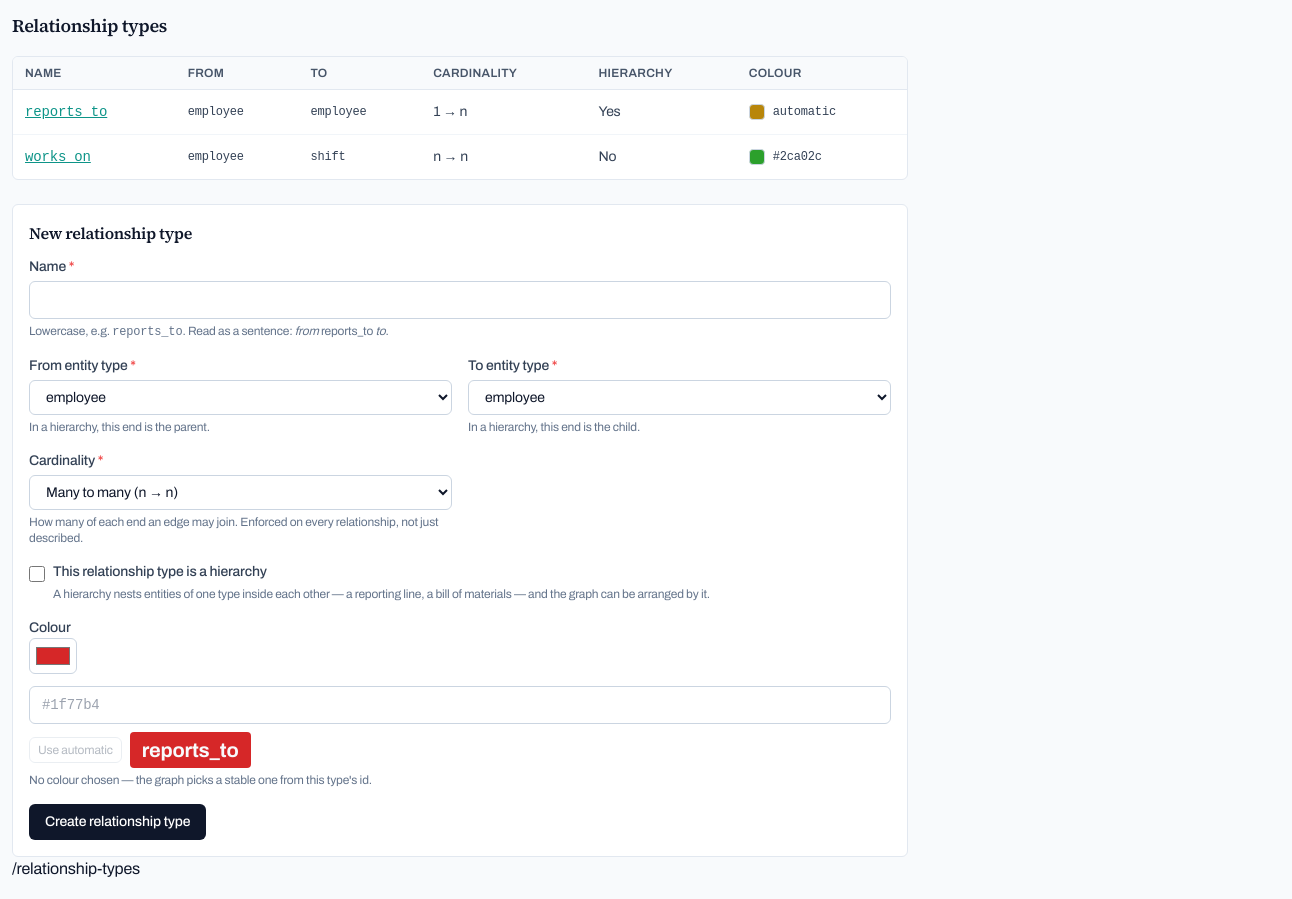
Test: RelationshipTypes list page › refuses to create a type whose colour box holds junk, and says so in the summary
Expected: the link "works_on" is shown, [25,149,91,165]
Type "supplies" into the field labelled "Name *" at (460,300), box [29,281,891,319]
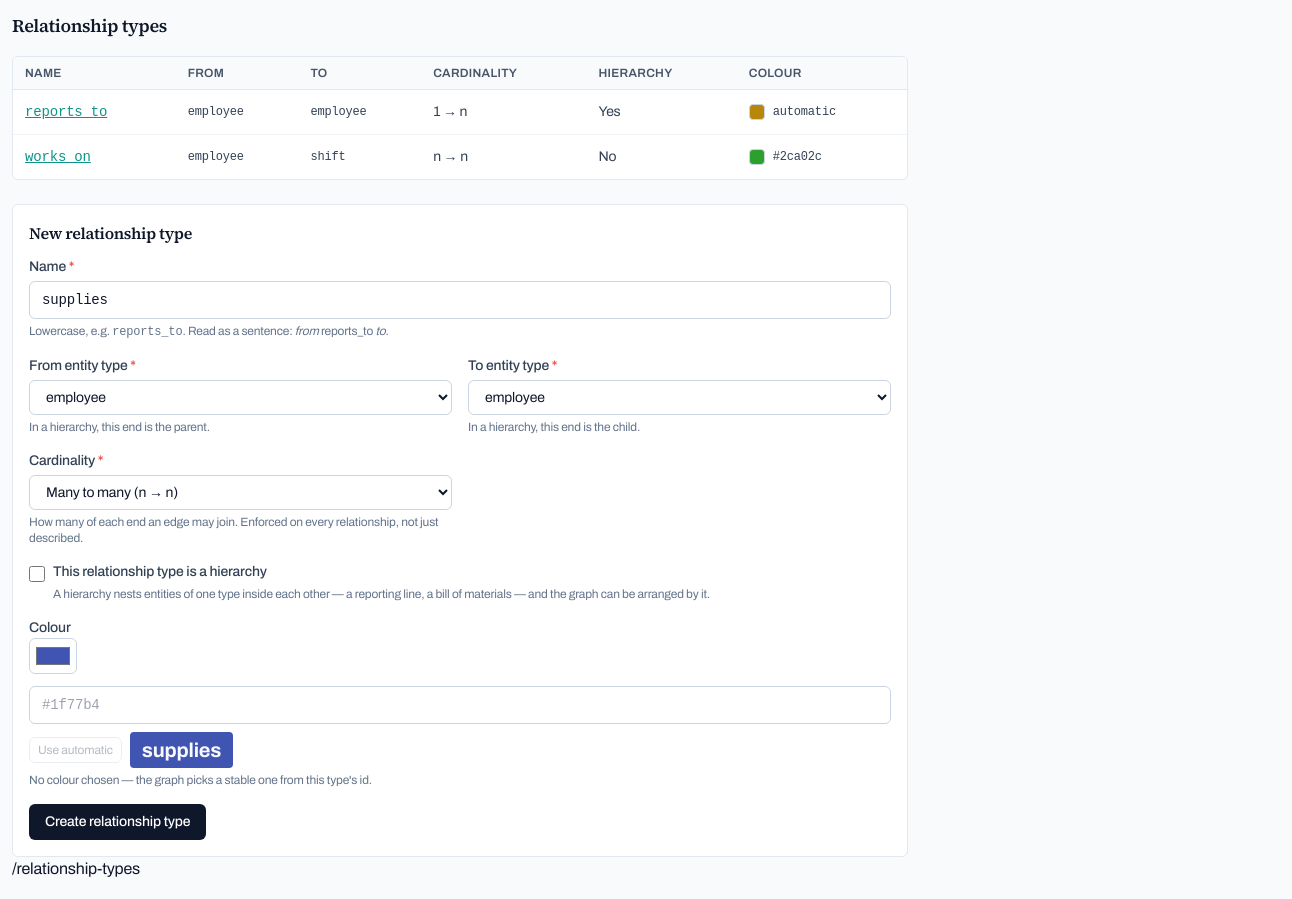
Type "banana" into the field with test id "colour-hex" at (460,705), box [29,686,891,724]
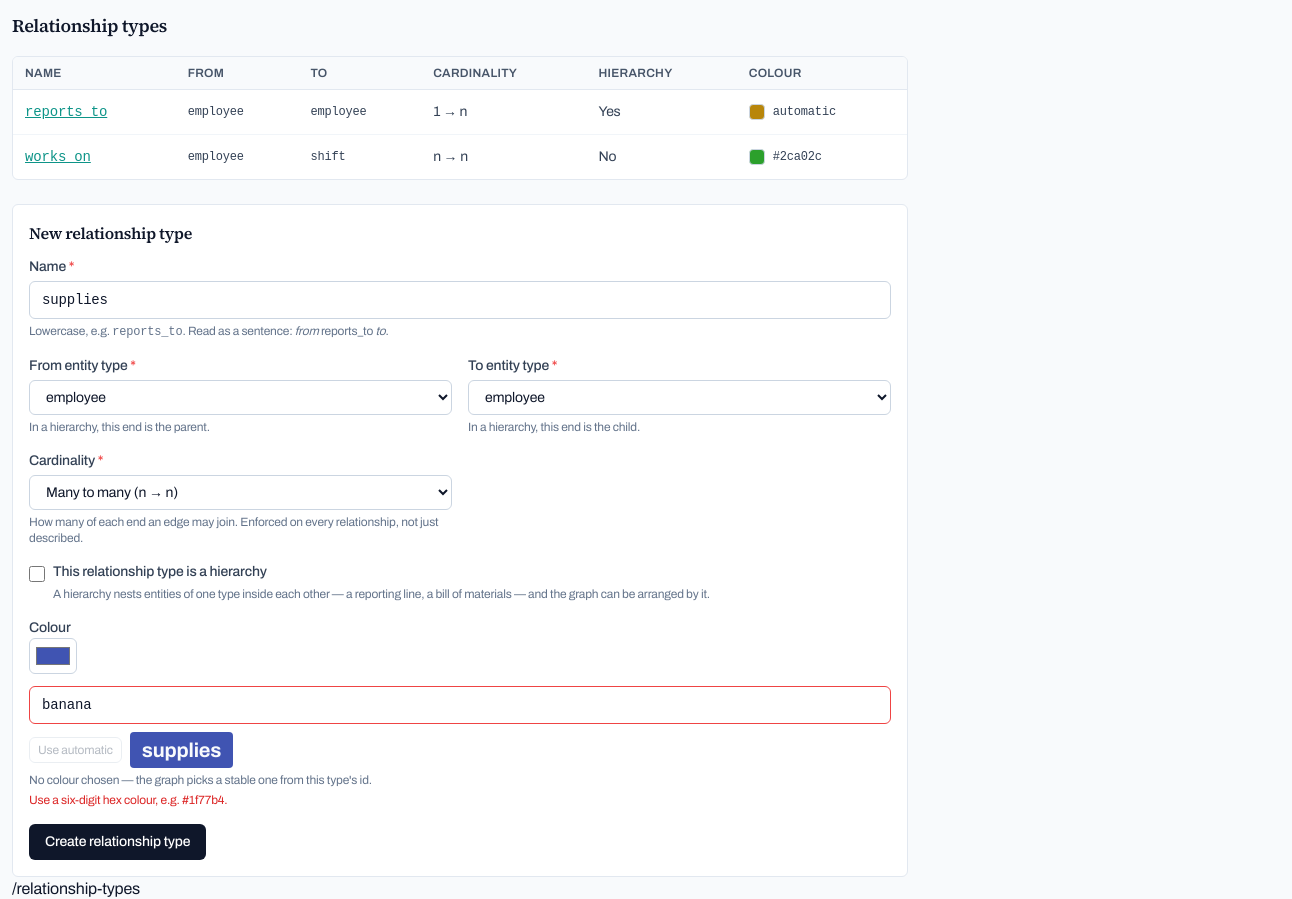
Click the button "Create relationship type" at (118,842), box [29,824,206,860]
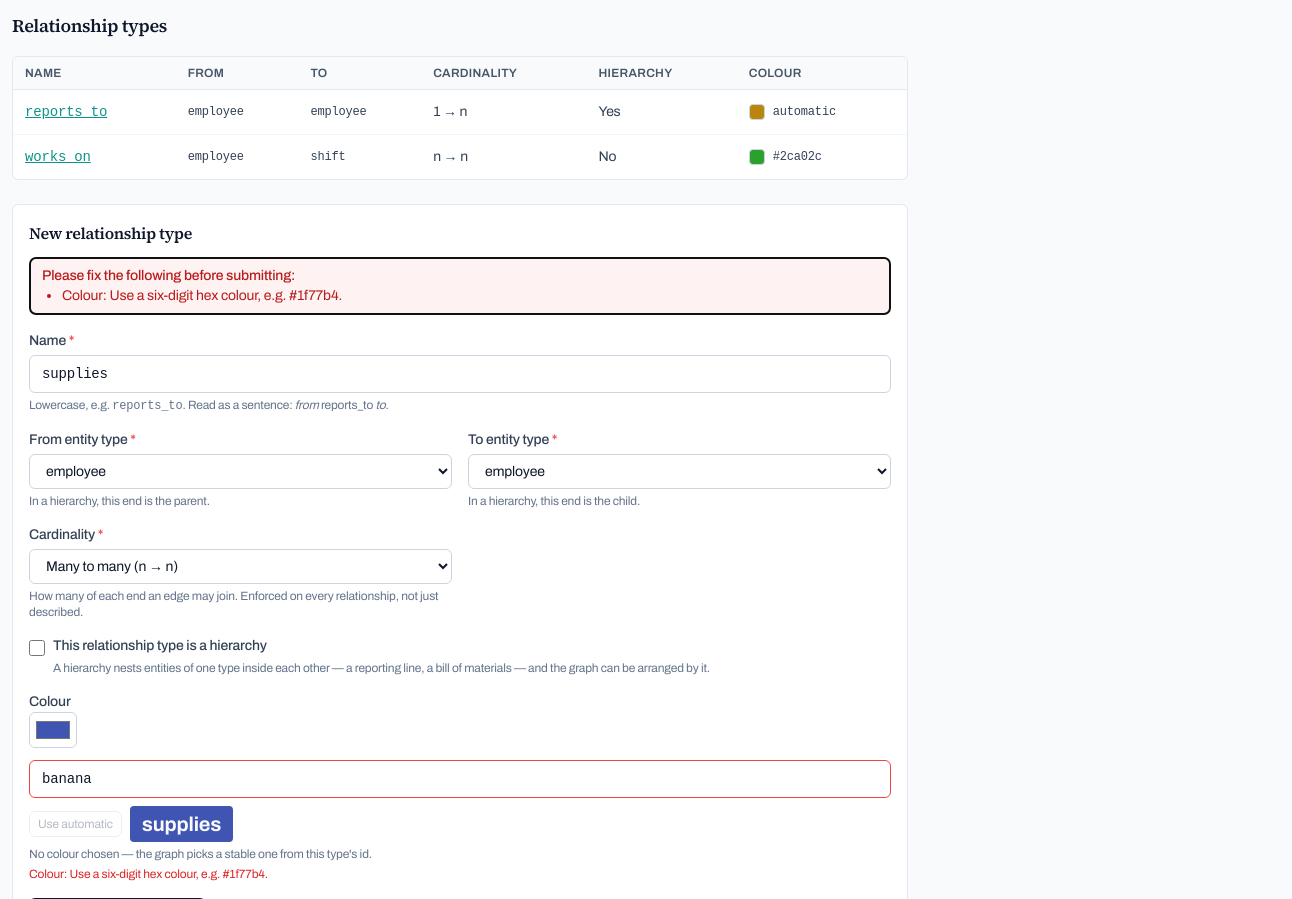
Now the message with test id "form-errors" shows "Colour: Use a six-digit hex colour", box [62,288,342,303]
